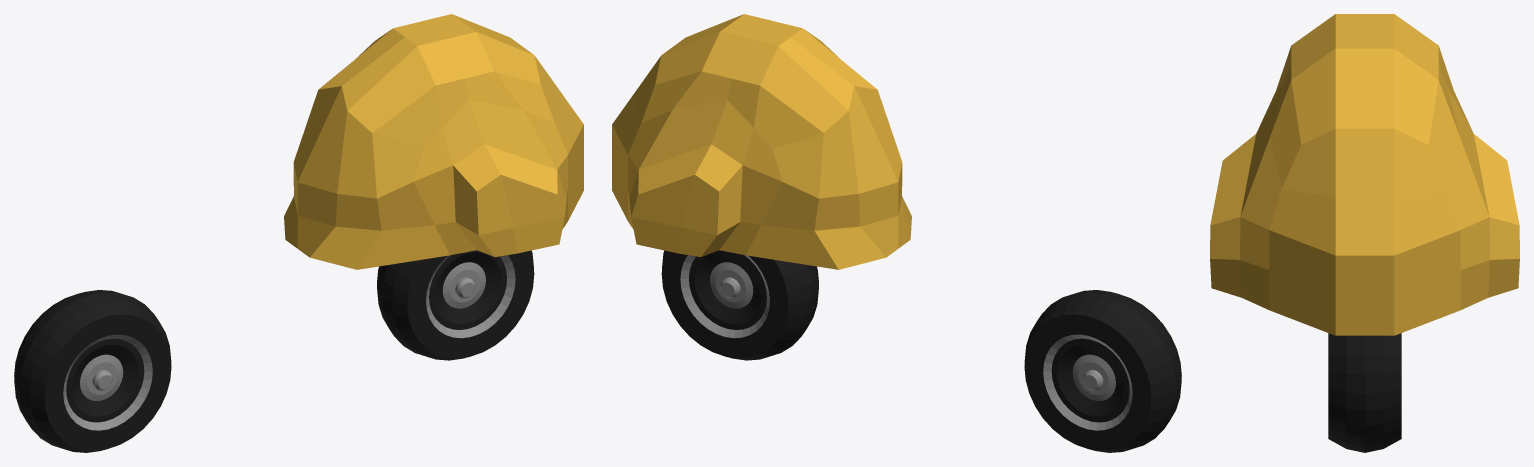
File: Motosycle_1.fbx
The picture shows the model from 3 angles, left to right: view 1: azimuth 30°, elevation 25°; view 2: azimuth 150°, elevation 25°; view 3: azimuth 270°, elevation 25°; orthographic projection. The views are drawn at different scales.
Parts seen in each view (by area): view 1: 平面, tirefront, tireback; view 2: 平面, tirefront, tireback; view 3: 平面, tireback.
Part boxes in pixels (x1,y1,x2,y2): 平面: (284, 14, 583, 269); tirefront: (14, 290, 171, 452); tireback: (377, 250, 534, 360); 平面: (612, 14, 911, 269); tirefront: (1024, 290, 1181, 452); tireback: (661, 250, 818, 360); 平面: (1210, 14, 1519, 335); tireback: (1328, 333, 1401, 452).
Size of the model in its own units: 871 by 504 by 350.
